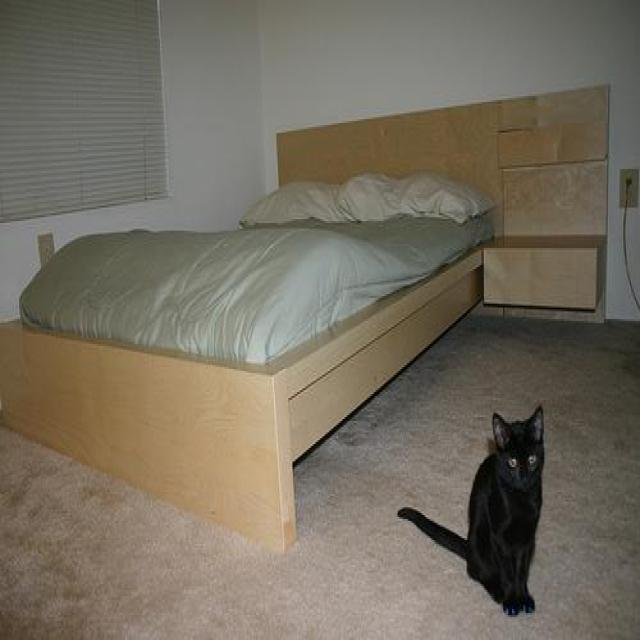bed: (0, 167, 494, 554)
